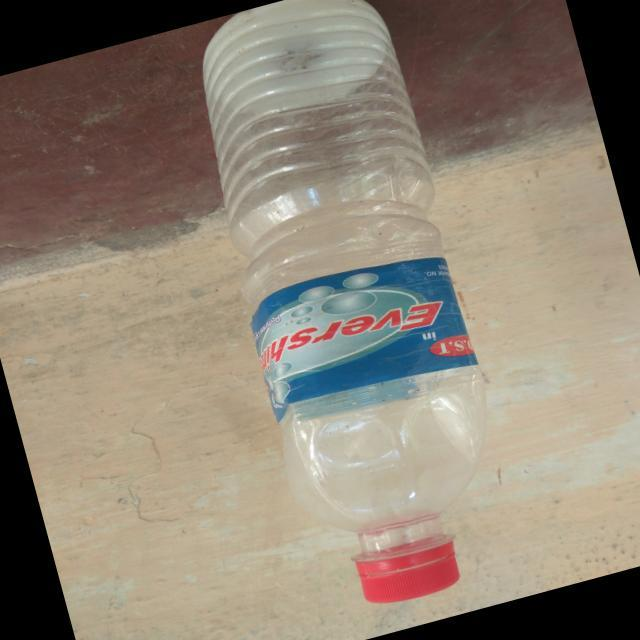good: (156, 0, 550, 631)
